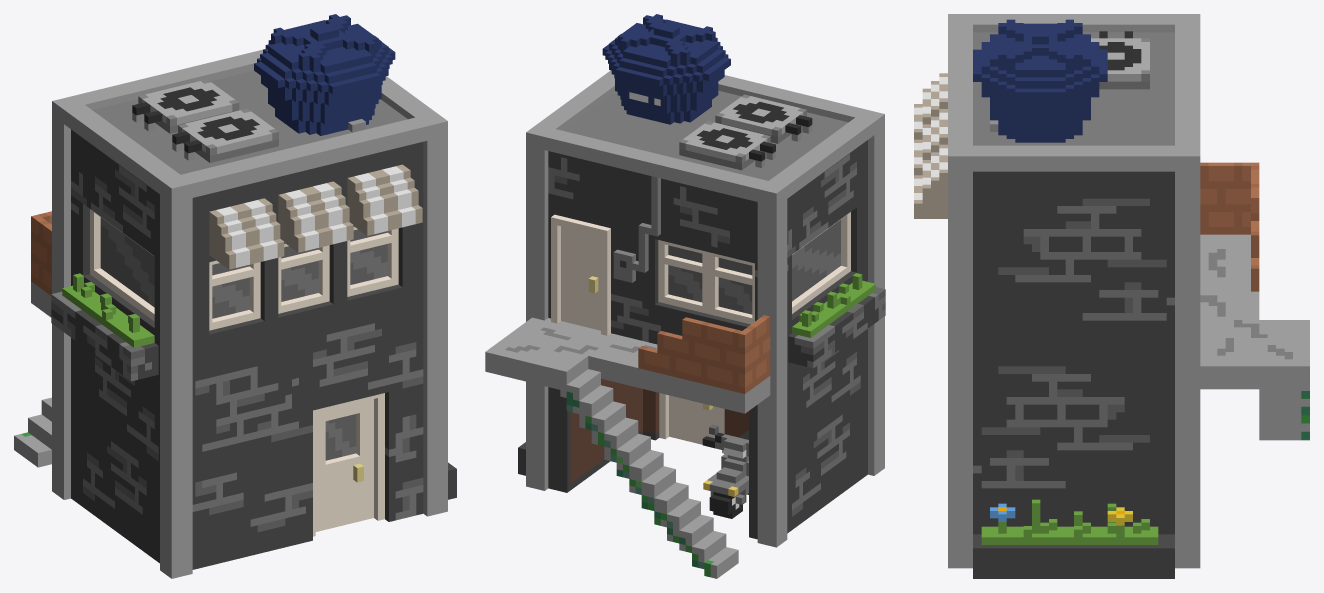
File: variaçõesdecorcasa-2.obj
3 renders of one model, left to right at view 1: azimuth 30°, elevation 25°; view 2: azimuth 150°, elevation 25°; view 3: azimuth 270°, elevation 25°, orthographic. The views are drawn at different scales.
Bounding box in the file's own units: 4.6 × 6.5 × 4.7.
Materials: 1 (1 with a texture image).
